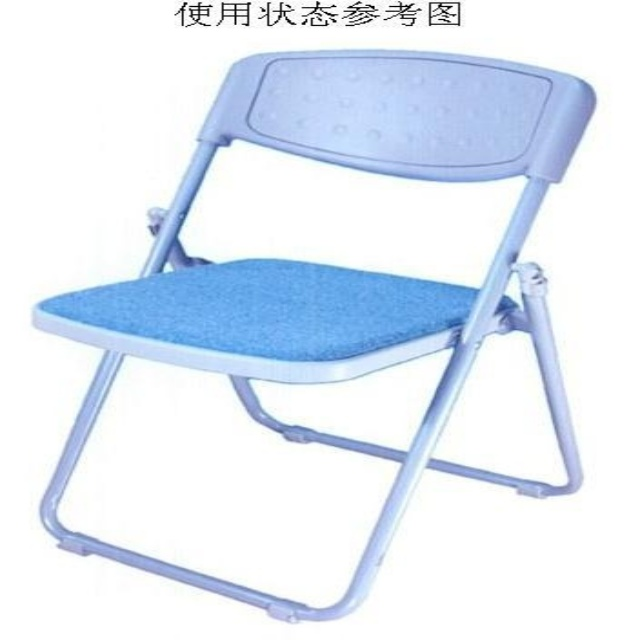obstacle: (35, 50, 593, 621)
